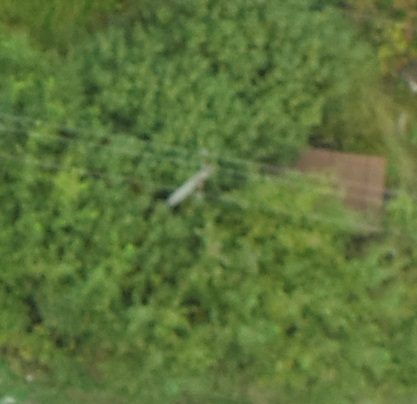opora: (167, 148, 220, 206)
